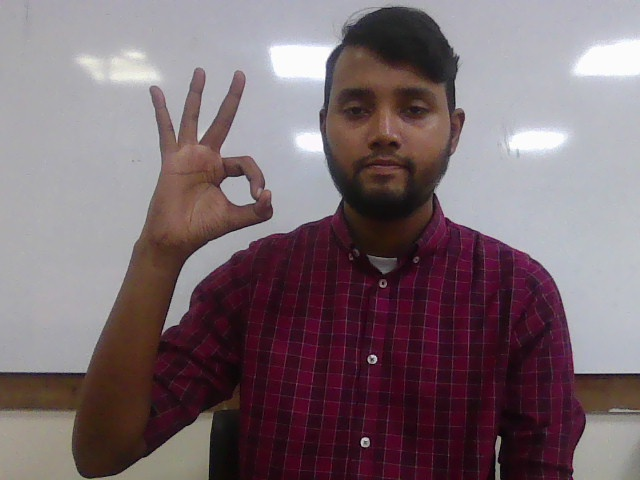Shundor: (147, 64, 275, 256)
